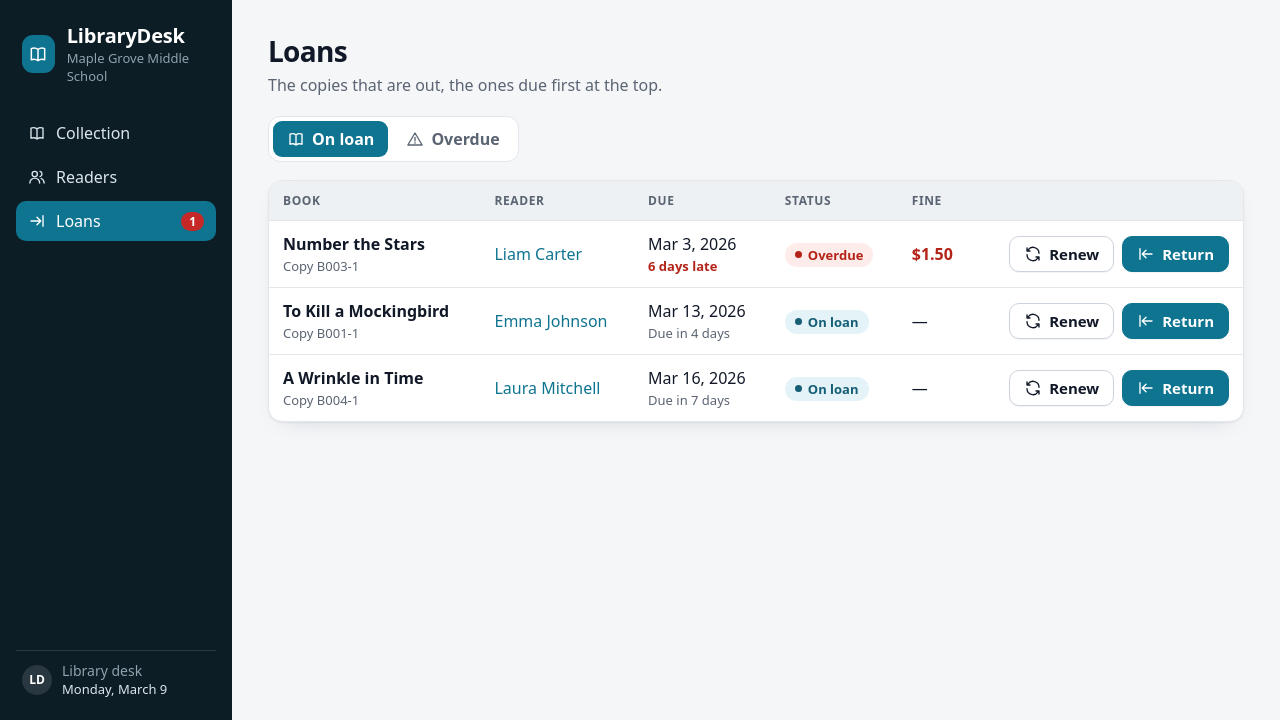
it: the loans › says the fine when a late copy comes back
The image size is (1280, 720).
expect the navigation bar named "Main" is shown: met, box [16,113,216,241]
expect the table named "Loans" is shown: met, box [268,180,1244,422]
Click the button with aria-label "Return Number the Stars".
click(1176, 254)  # box [1122,236,1229,272]
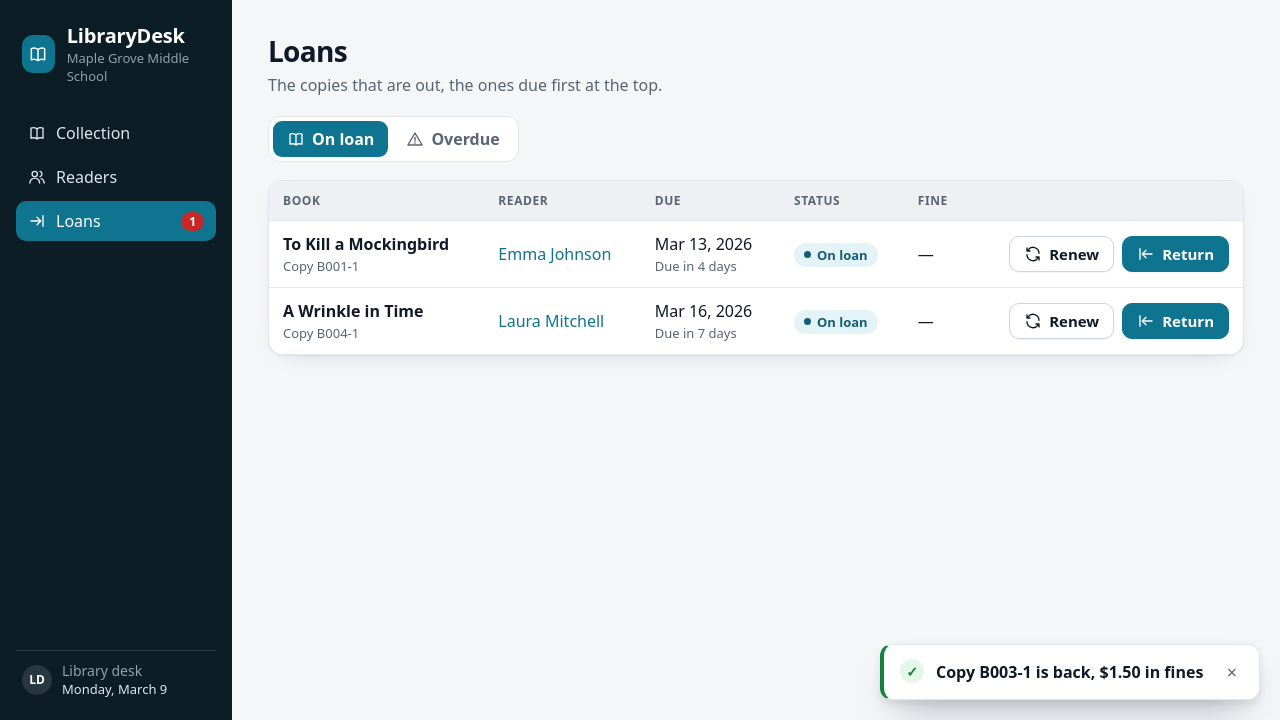
expect the text "Copy B003-1 is back, $1.50 in fines" is shown: met, box [936,661,1207,683]
